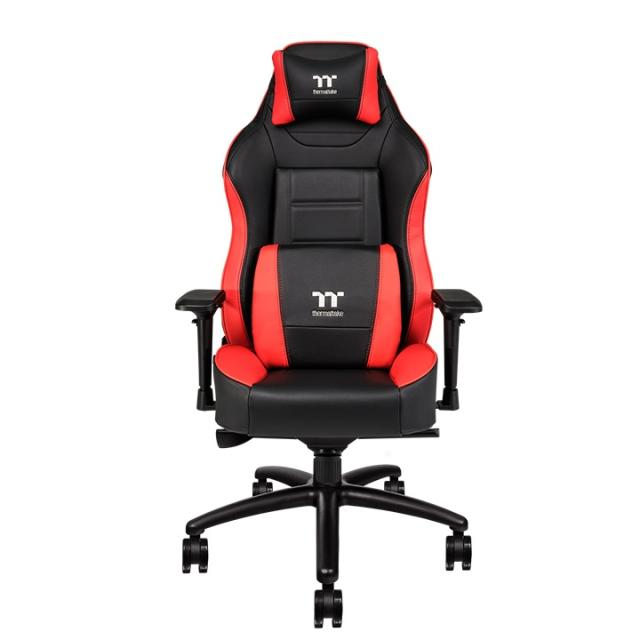chair: (103, 23, 572, 640)
